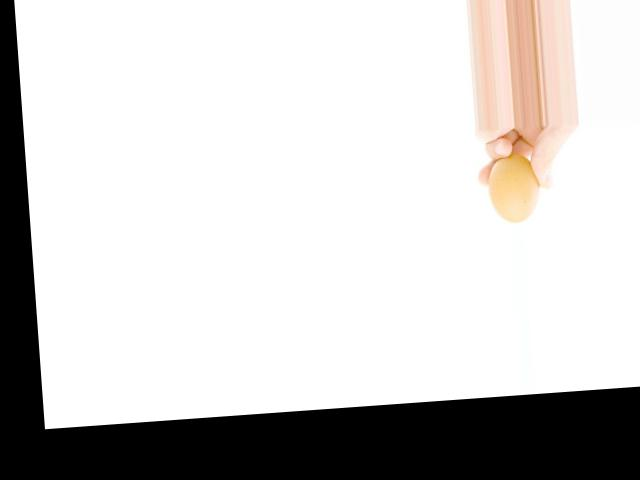egg: (485, 153, 541, 224)
